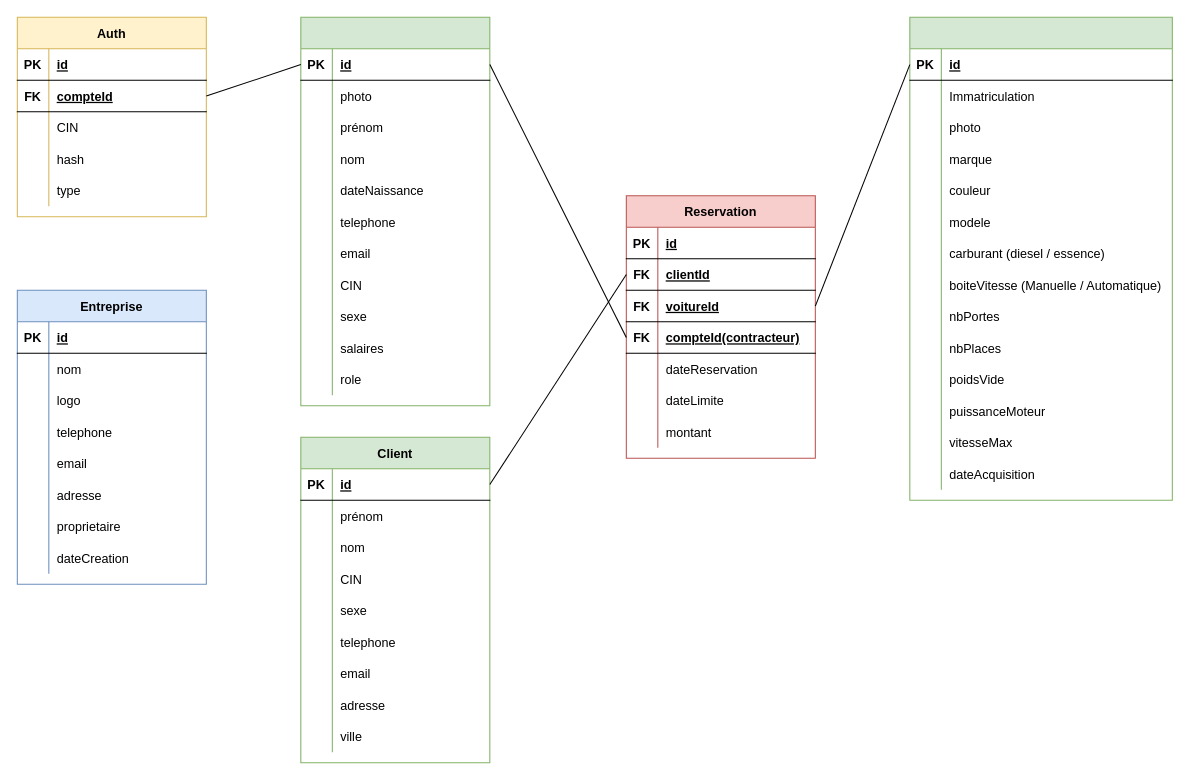
This 1190x780 diagram has some shape labels left out. The shapes that lost their labels are listed below. From the top down, each one's box as (x1, y1, x2, y2) in pixels, then its label:
(300, 16, 490, 406): Compte
(909, 16, 1172, 500): Voiture
